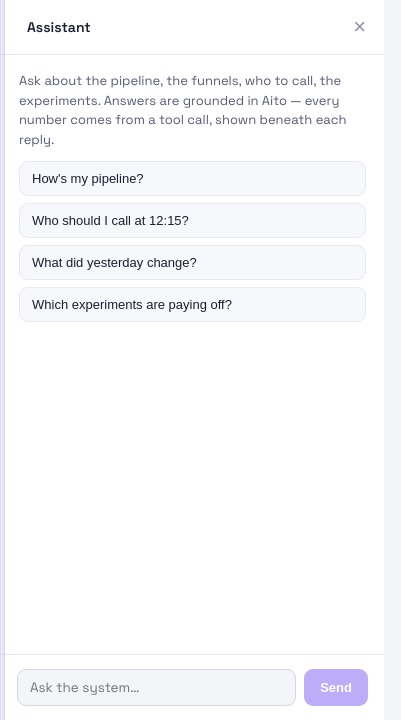
Assistant chat panel › surfaces an error and keeps the question for retry
Type "hi" into the field with placeholder "Ask the system…" at (157, 688), box [17,669,296,706]
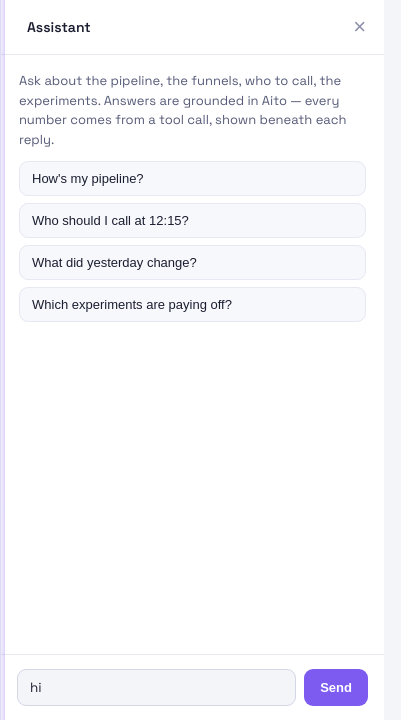
Click the button "Send" at (336, 688), box [304,669,368,706]
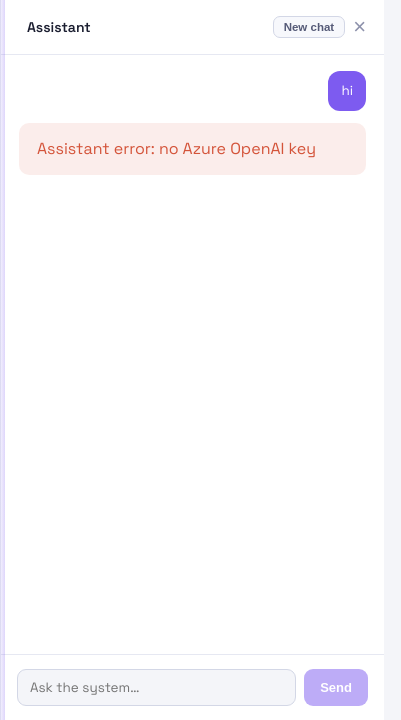
Check: the text "hi" is shown, box [328,71,366,111]
Check: the text "Assistant error: no Azure OpenAI key" is shown, box [19,123,366,175]
